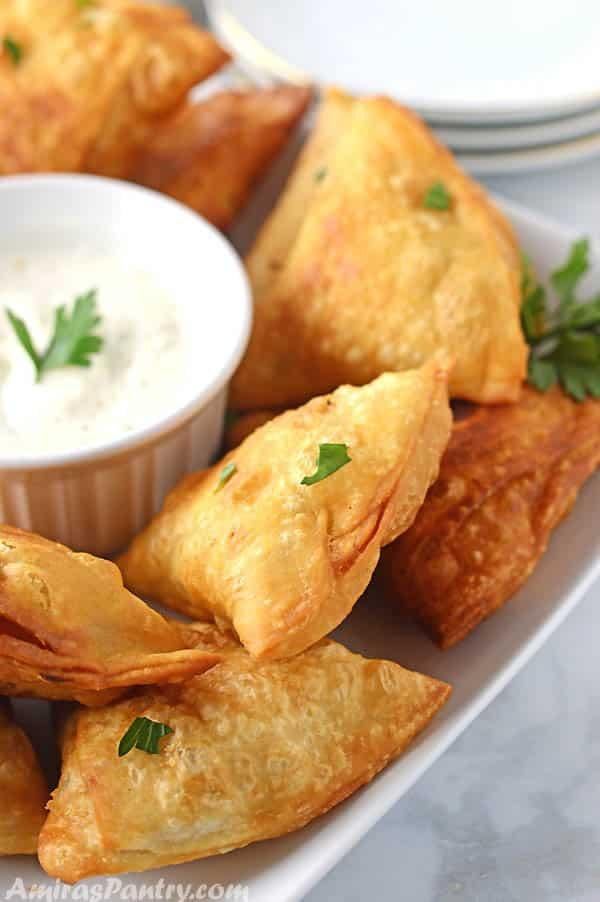samosa: (120, 361, 451, 658), (229, 88, 527, 409)
